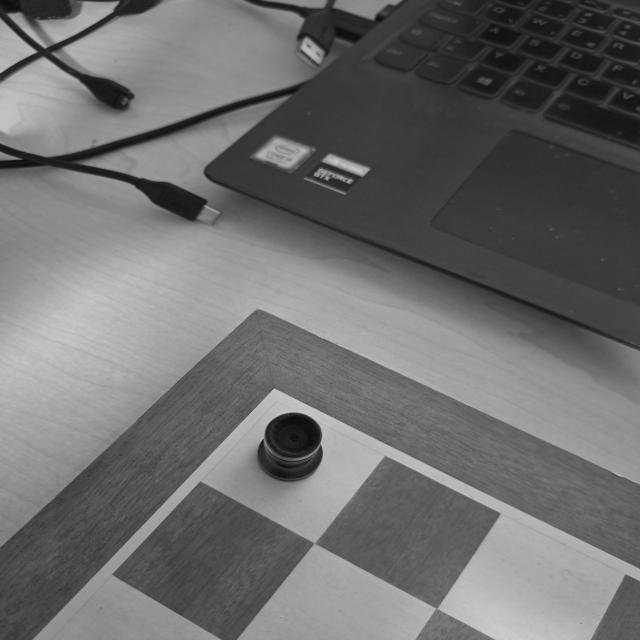chess-table-corners: (232, 377, 320, 429)
